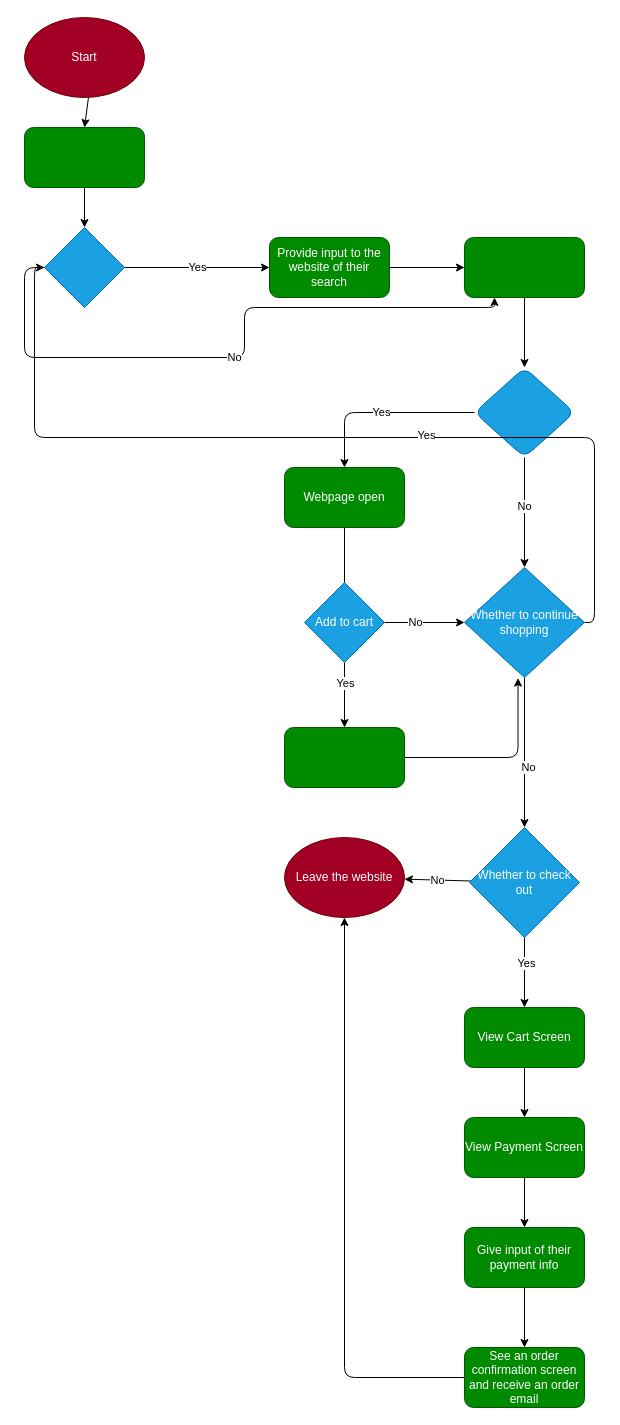
The diagram is 620 pixels wide and 1425 high, and some of its shapes have lost their labels. Here are the shapes that lost their labels. From the top down, the box of each, then its label:
(24, 126, 144, 188): Users enter the website
(44, 226, 124, 308): Search products or not
(464, 236, 584, 298): Look over the products
(474, 366, 574, 458): View a specific product
(284, 726, 404, 788): Added to cart comfirmation
